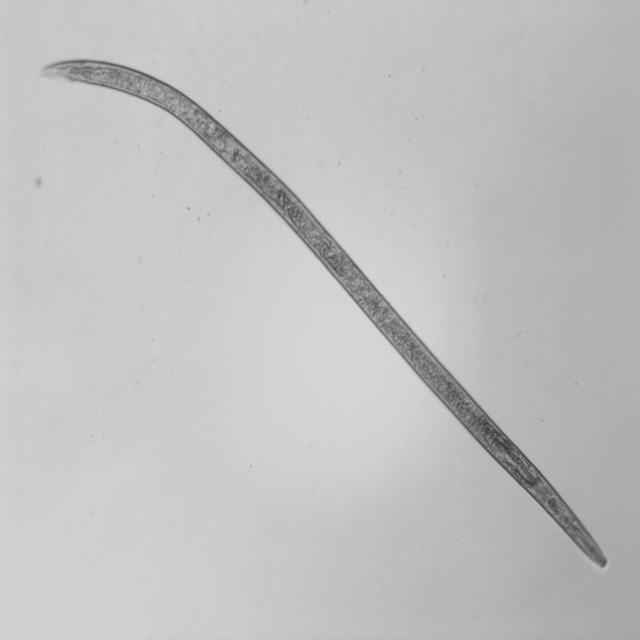Pratylenchus: (36, 51, 611, 576)
